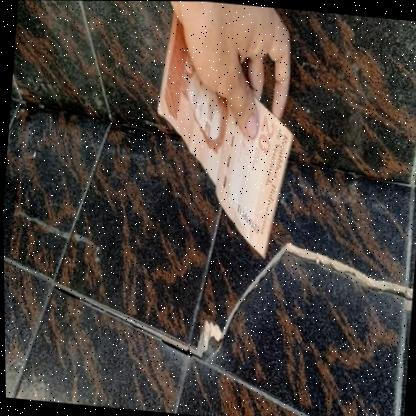twenty-front-vef: (144, 8, 305, 258)
